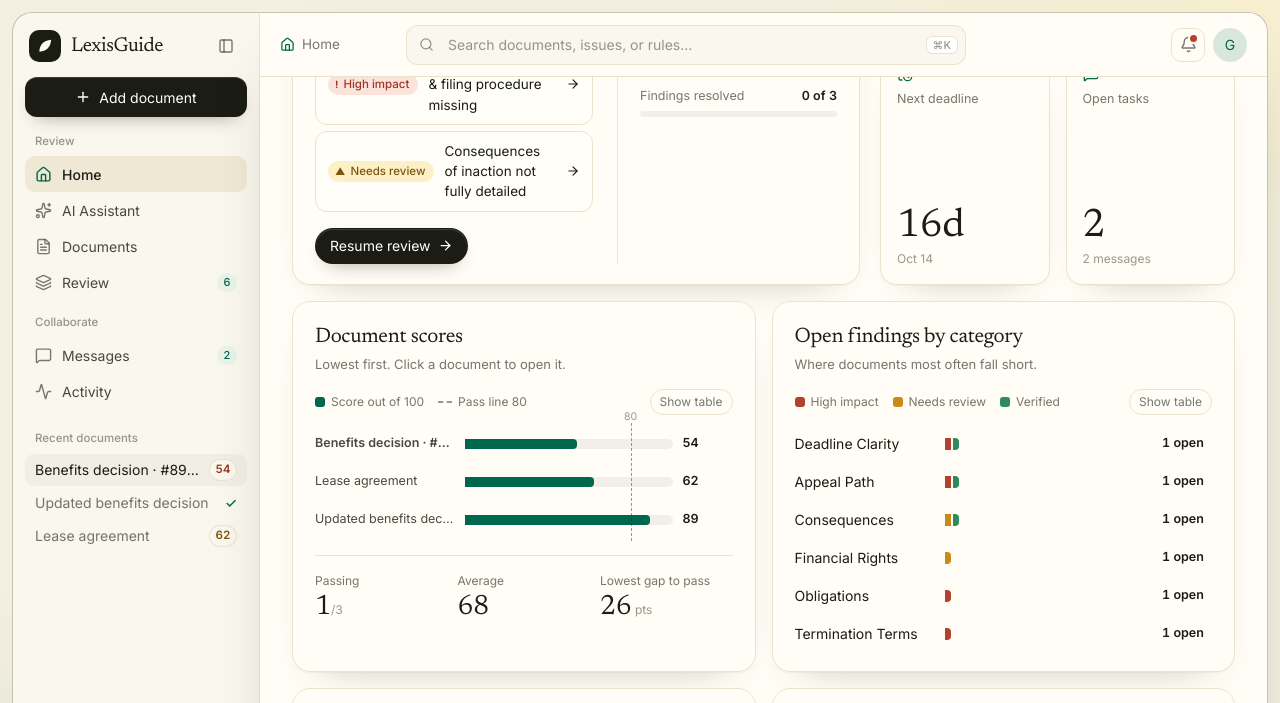
Test: Workspace navigation › opens a document in Review from its score bar
(page scrolled)
Step 1. Click the button with aria-label "Lease agreement: score 62 out of 100" → (524, 482), box [315,465,732,499]
(page scrolled)
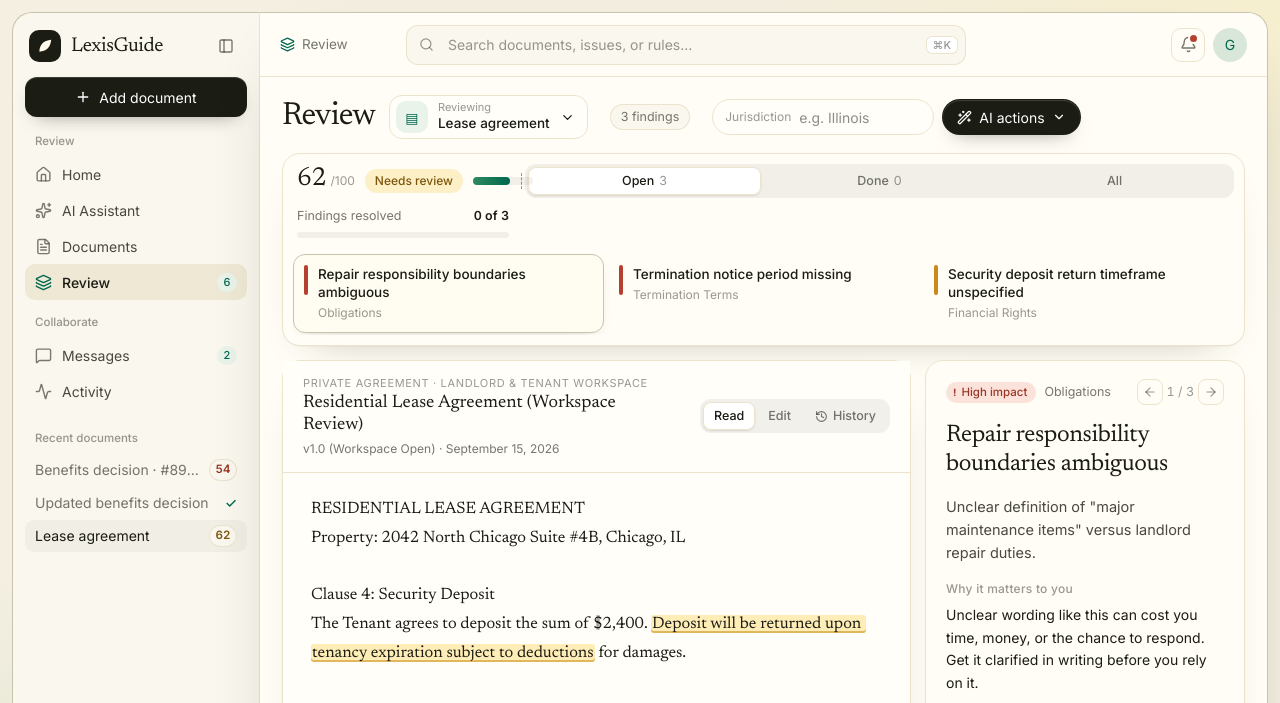
Expected: the heading "Review" is shown, [282,100,375,134]
Now the button "▤ Reviewing Lease agreement" is shown, box [389,95,588,139]
